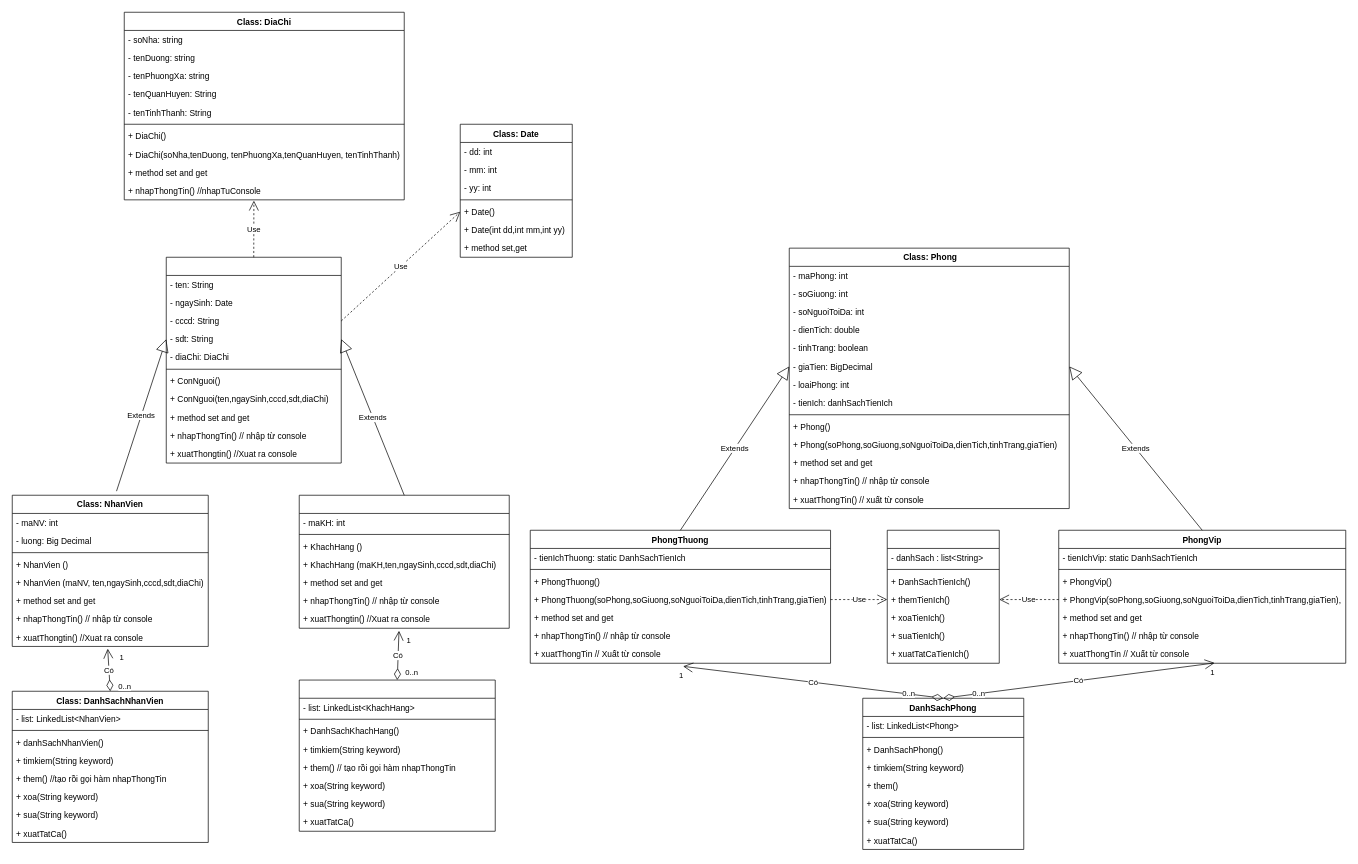
The diagram is 1358 pixels wide and 864 high, and some of its shapes have lost their labels. Here are the shapes that lost their labels. From the top down, the box of each, then its label:
(166, 257, 341, 463): Class: ConNguoi
(299, 495, 509, 628): Class: KhachHang
(887, 530, 999, 663): Class: DanhSachTienIch
(299, 679, 495, 831): Class: DanhSachKhachHang
